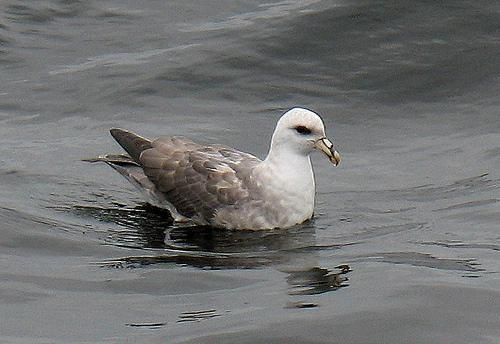bird: (99, 102, 337, 239)
